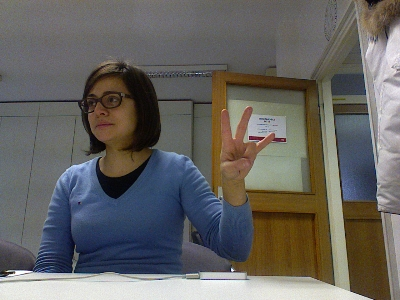观音: (217, 104, 276, 183)
